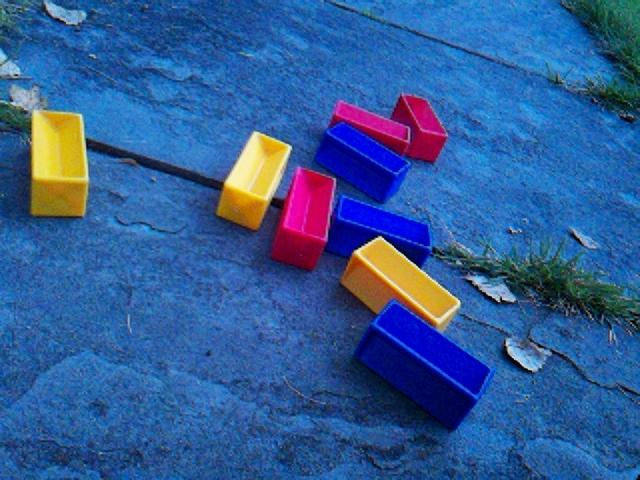blue: (352, 298, 494, 431), (326, 193, 434, 269), (314, 120, 412, 203)
red: (270, 165, 337, 271), (329, 98, 411, 157), (390, 91, 449, 164)
yellow: (340, 235, 462, 332), (215, 129, 293, 231), (29, 108, 91, 219)
